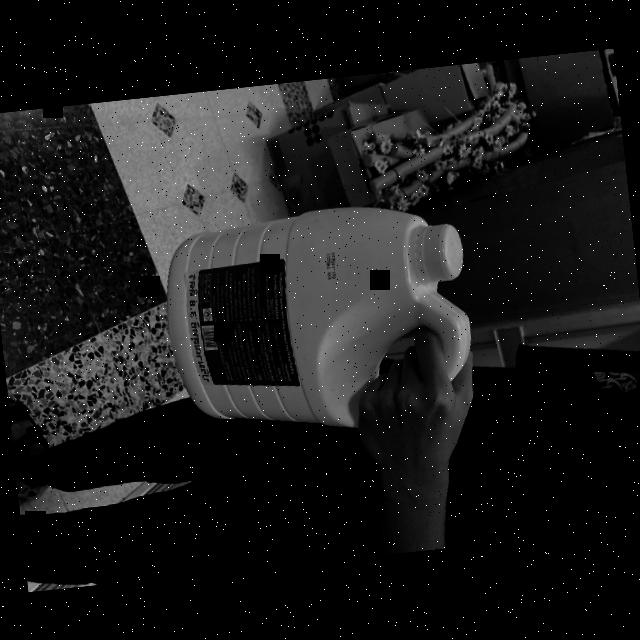chemical_plastic_gallon: (156, 192, 480, 448)
